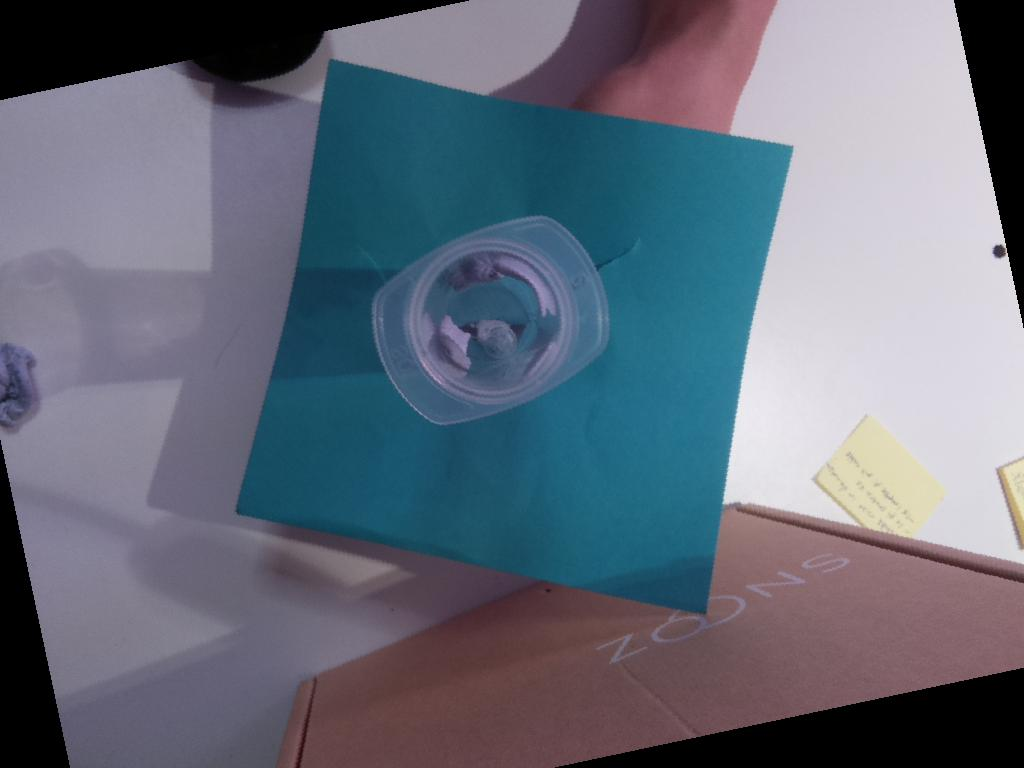dirty: (372, 215, 620, 425)
